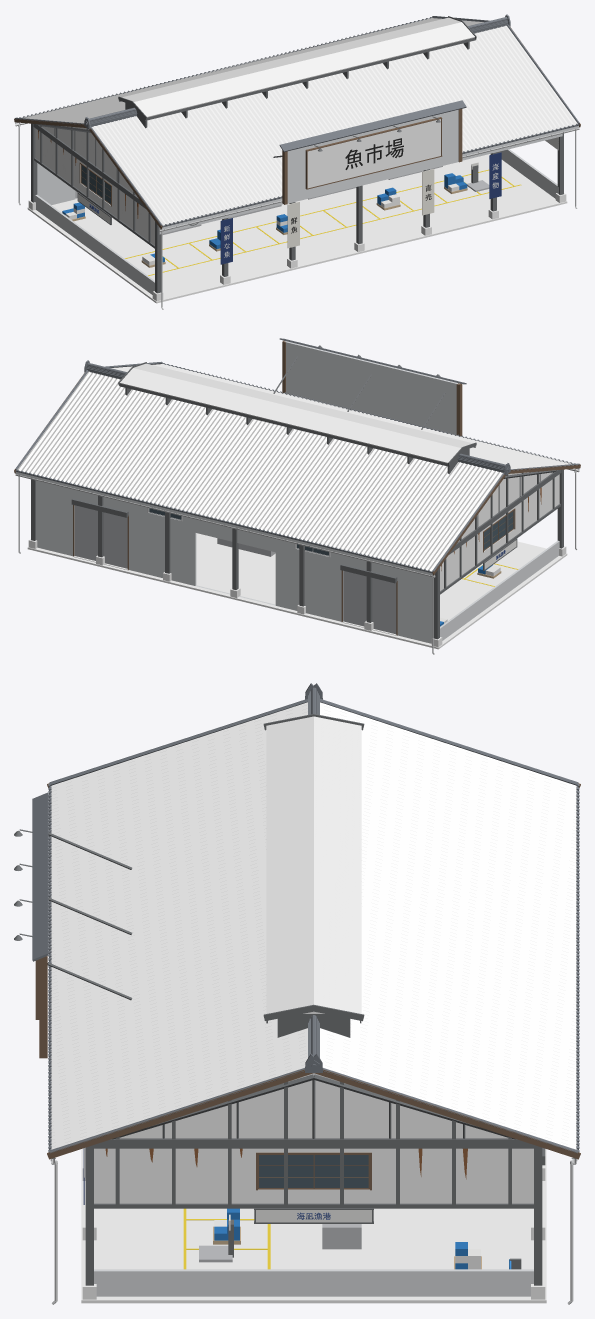
File: fish_market.glb
The picture shows the model from 3 angles, top to bottom: view 1: azimuth 30°, elevation 25°; view 2: azimuth 150°, elevation 25°; view 3: azimuth 270°, elevation 25°; orthographic projection. The views are drawn at different scales.
Parts seen in each view (by area): view 1: fish_market_body; view 2: fish_market_body; view 3: fish_market_body.
Boxes of the visible parts, x1,y1,x2,y2 form: fish_market_body: (14, 14, 580, 309); fish_market_body: (14, 338, 580, 654); fish_market_body: (14, 683, 580, 1304).
Size of what is drawn, in the model's own units: 31.55 by 10.34 by 20.23.
